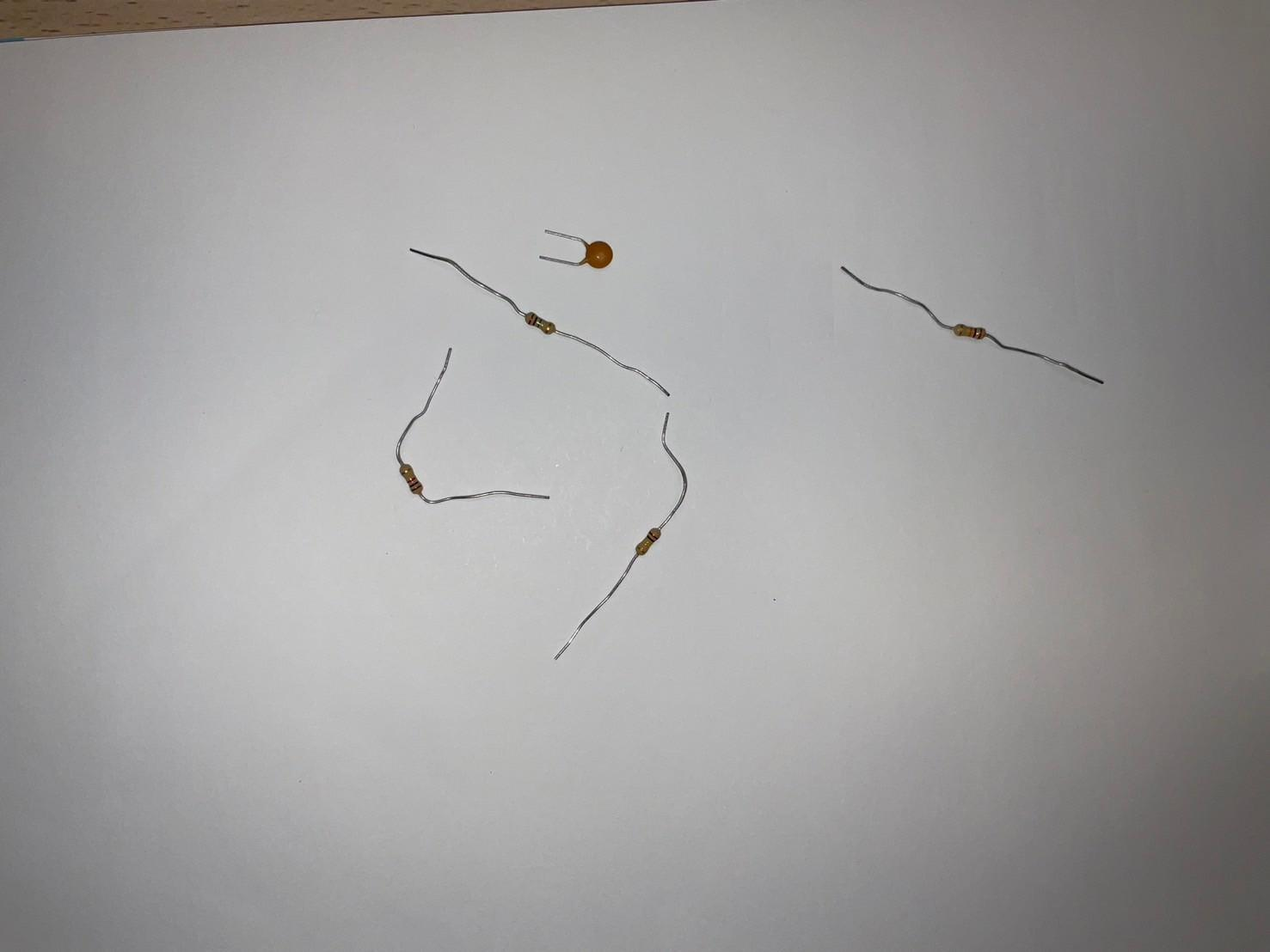resistor: (634, 526, 661, 557), (399, 462, 424, 495), (524, 313, 555, 335), (953, 322, 987, 340)
